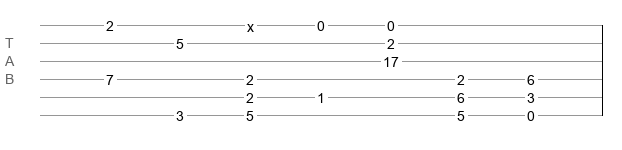0: (317, 18, 325, 28), (387, 18, 395, 28), (527, 108, 535, 118)
1: (317, 90, 325, 100)
17: (383, 54, 399, 64)
2: (106, 18, 114, 28), (246, 72, 254, 82), (246, 90, 254, 100), (387, 36, 395, 46), (457, 72, 465, 82)
3: (176, 108, 184, 118), (527, 90, 535, 100)
5: (176, 36, 184, 46), (246, 108, 254, 118), (457, 108, 465, 118)
6: (457, 90, 465, 100), (527, 72, 535, 82)
7: (106, 72, 114, 82)
x: (247, 19, 254, 27)
